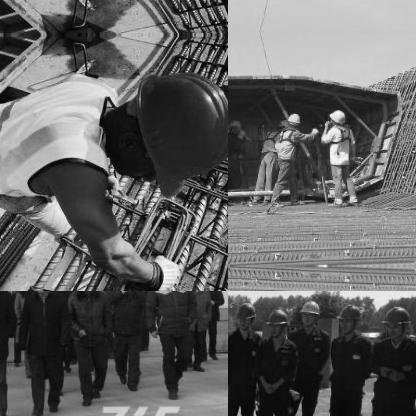Helmet: (105, 64, 227, 196), (381, 302, 411, 340), (337, 300, 361, 334), (266, 306, 290, 338), (235, 298, 256, 332), (300, 296, 320, 326), (328, 108, 344, 124), (285, 110, 299, 126), (229, 118, 241, 130)
